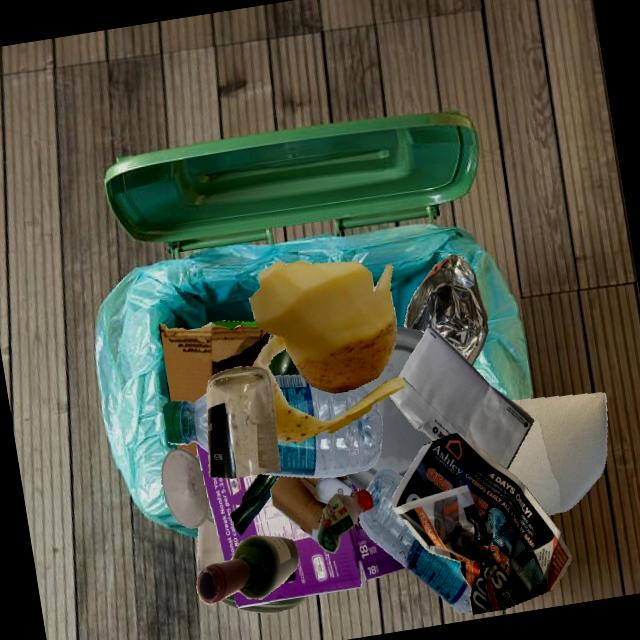biowaste: (249, 260, 404, 443), (230, 474, 281, 535)
cardboard: (195, 442, 406, 607), (508, 392, 607, 515), (159, 320, 271, 404), (270, 475, 355, 543)
glass: (207, 366, 280, 478), (197, 535, 299, 604), (162, 448, 215, 528), (219, 594, 307, 614), (197, 519, 225, 573), (268, 348, 301, 376)
metal: (404, 254, 488, 366)
paper: (391, 433, 572, 615), (390, 327, 534, 470)
plastic: (359, 468, 471, 614), (207, 394, 323, 474), (264, 402, 382, 478), (345, 395, 434, 491), (362, 326, 424, 392), (317, 490, 374, 553), (163, 401, 208, 452), (323, 385, 372, 421), (273, 375, 321, 394)
